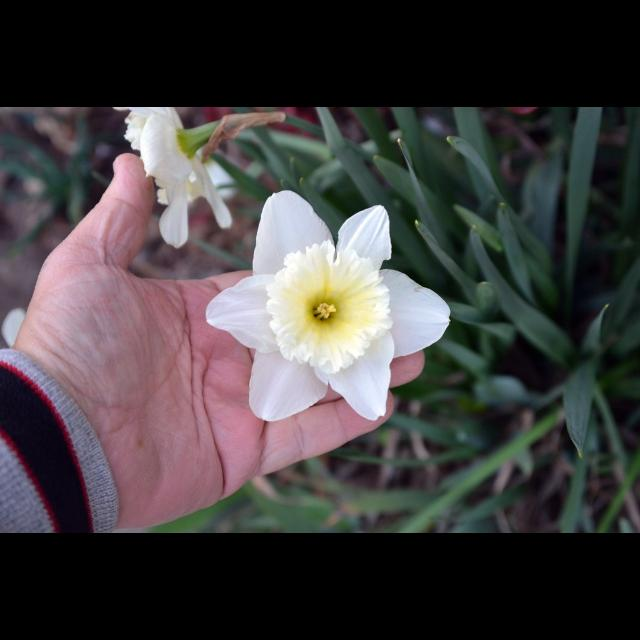Flower: (216, 190, 444, 436), (118, 107, 232, 245)
